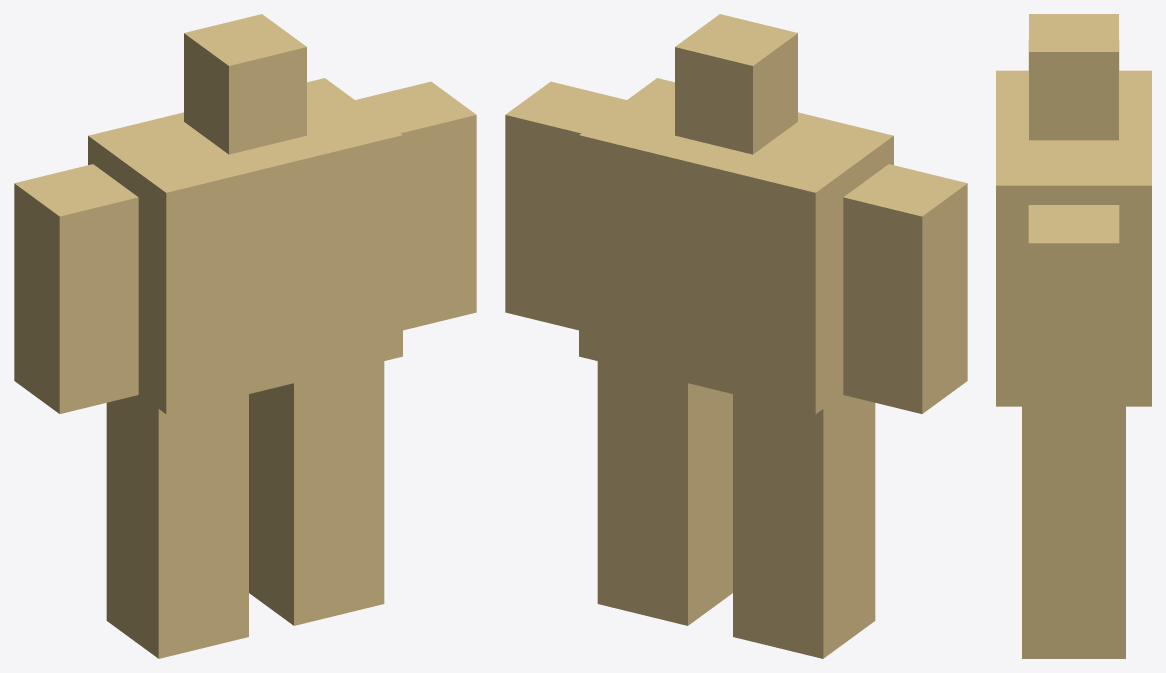
Rendered from dwarf_runesmith.glb.
3 renders of one model, left to right at view 1: azimuth 30°, elevation 25°; view 2: azimuth 150°, elevation 25°; view 3: azimuth 270°, elevation 25°, orthographic.
Parts seen in each view (by area): view 1: dwarf_runesmith; view 2: dwarf_runesmith; view 3: dwarf_runesmith.
Part boxes in pixels (x1,y1,x2,y2): dwarf_runesmith: [14, 14, 476, 658]; dwarf_runesmith: [505, 14, 967, 658]; dwarf_runesmith: [996, 14, 1151, 658].
Size of the model in its own units: 0.999 by 1.31 by 0.324.
